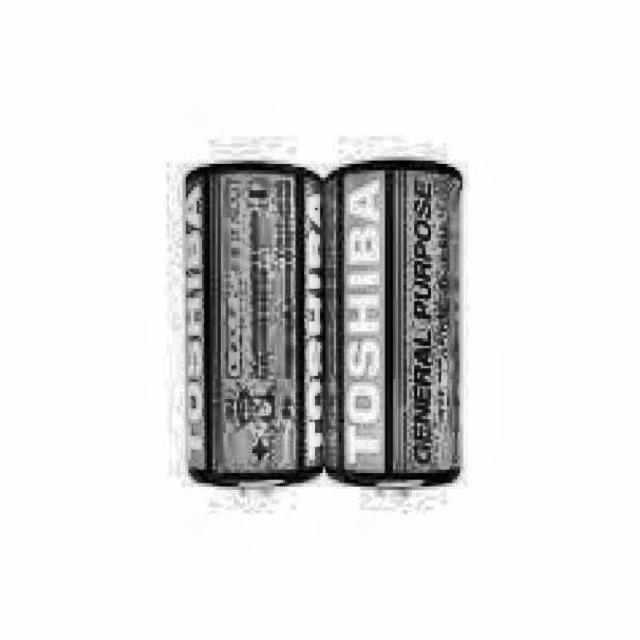battery: (322, 160, 463, 493), (181, 160, 324, 487)
